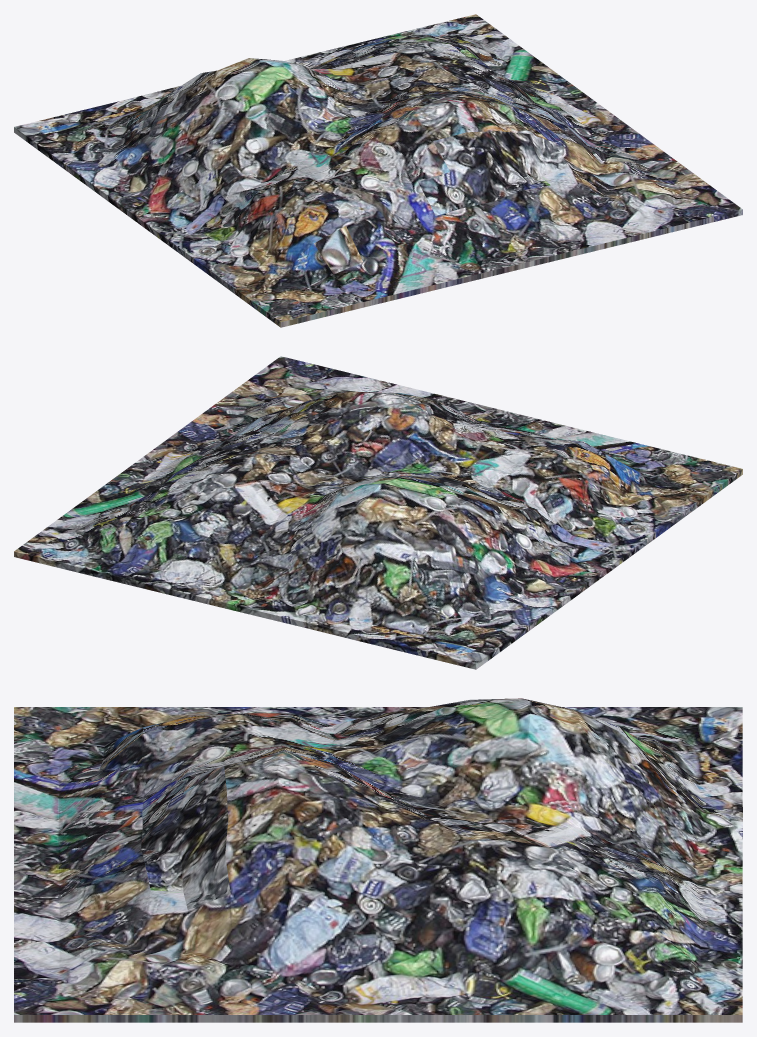
The model's file is garbage01.fbx.
3 views of the same model, one above another, from view 1: azimuth 30°, elevation 25°; view 2: azimuth 150°, elevation 25°; view 3: azimuth 270°, elevation 25° (orthographic). The views are drawn at different scales.
Visible parts, largest first — view 1: Plane; view 2: Plane; view 3: Plane.
Part boxes in pixels (x1,y1,x2,y2): Plane: (14, 14, 742, 327); Plane: (14, 356, 742, 669); Plane: (14, 698, 742, 1022).
Size of the model in its own units: 400 by 71.78 by 400.
